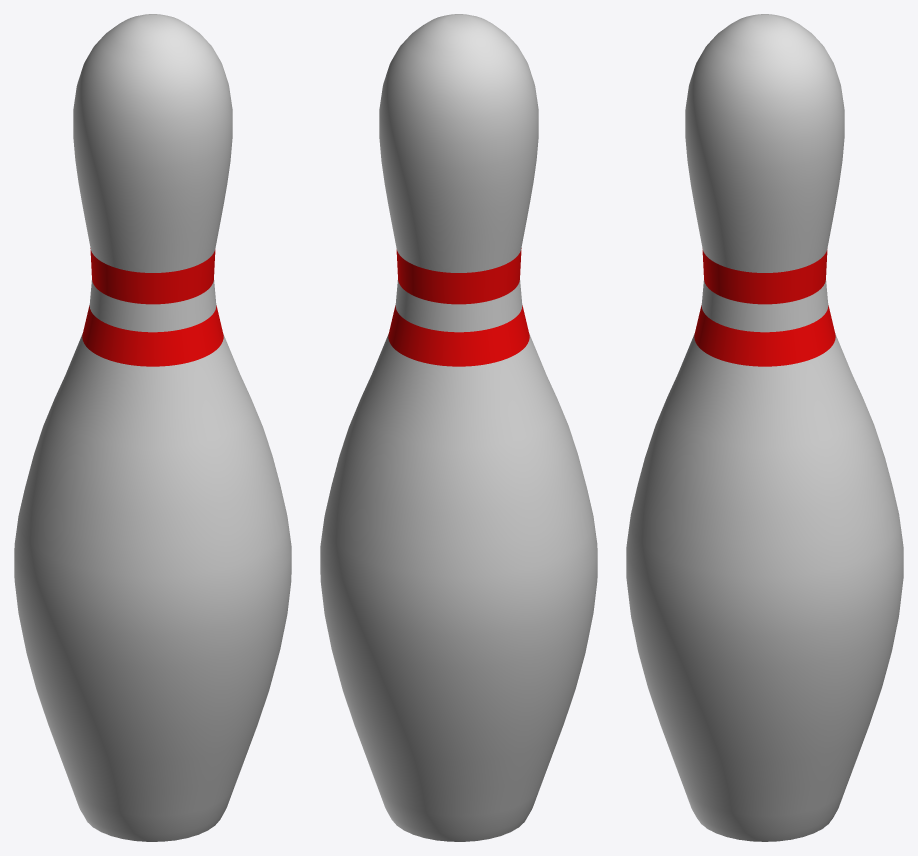
The model's file is uploads_files_2275158_Pino.fbx.
3 renders of one model, left to right at view 1: azimuth 30°, elevation 25°; view 2: azimuth 150°, elevation 25°; view 3: azimuth 270°, elevation 25°, orthographic.
Parts seen in each view (by area): view 1: Pinos.001; view 2: Pinos.001; view 3: Pinos.001.
Boxes of the visible parts, x1,y1,x2,y2 form: Pinos.001: (14, 14, 291, 841); Pinos.001: (320, 14, 597, 841); Pinos.001: (626, 14, 903, 841).
Bounding box in the file's own units: 117 × 369 × 117.
